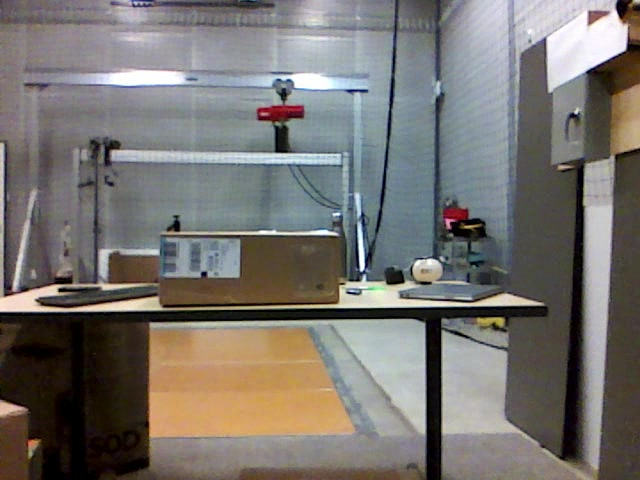box: (1, 323, 149, 468), (161, 232, 341, 303)
